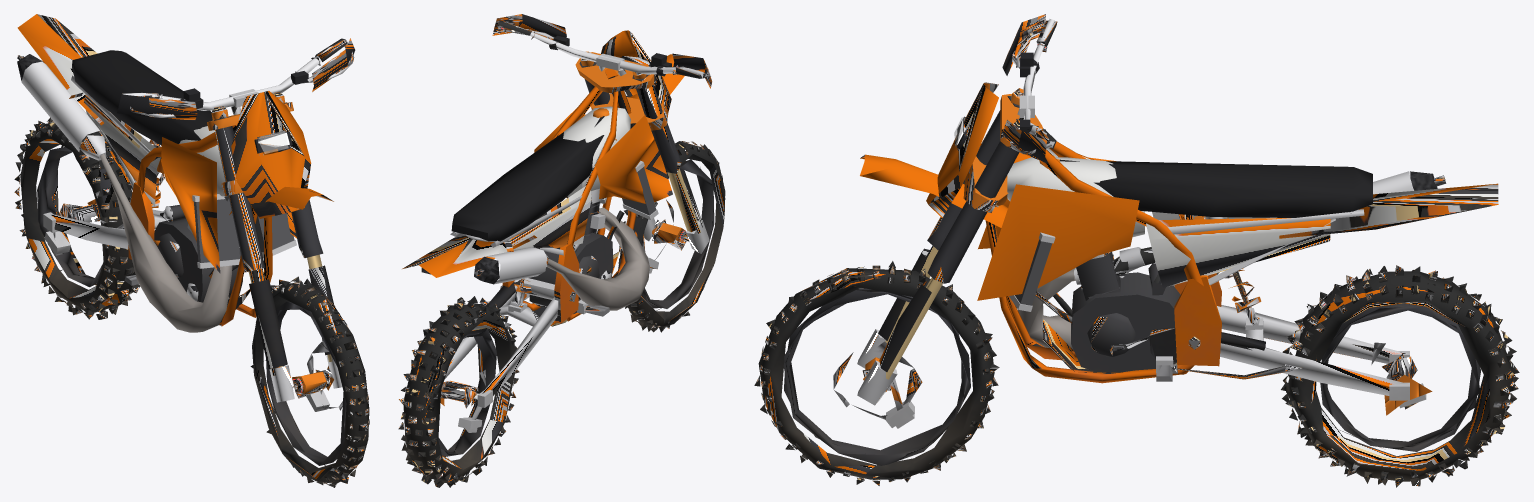
The model's file is enduro-300-4000-Bzzxnf27.glb.
3 views of the same model, side by side, from view 1: azimuth 30°, elevation 25°; view 2: azimuth 150°, elevation 25°; view 3: azimuth 270°, elevation 25° (orthographic). The views are drawn at different scales.
Parts seen in each view (by area): view 1: SM_Enduro_Body_LOD3, SM_Enduro_Steering_LOD3, SM_Enduro_WheelRear_LOD3, SM_Enduro_WheelFront_LOD3, SM_Enduro_ForkLower_LOD3, SM_Enduro_Swingarm_LOD3; view 2: SM_Enduro_Body_LOD3, SM_Enduro_WheelRear_LOD3, SM_Enduro_Steering_LOD3, SM_Enduro_WheelFront_LOD3, SM_Enduro_Swingarm_LOD3, SM_Enduro_ForkLower_LOD3; view 3: SM_Enduro_Body_LOD3, SM_Enduro_WheelRear_LOD3, SM_Enduro_WheelFront_LOD3, SM_Enduro_Steering_LOD3, SM_Enduro_Swingarm_LOD3, SM_Enduro_ForkLower_LOD3.
Boxes of the visible parts, x1=… form: SM_Enduro_Body_LOD3: x1=17, y1=14, x2=296, y2=332; SM_Enduro_Steering_LOD3: x1=117, y1=38, x2=355, y2=272; SM_Enduro_WheelRear_LOD3: x1=14, y1=117, x2=140, y2=319; SM_Enduro_WheelFront_LOD3: x1=250, y1=276, x2=369, y2=487; SM_Enduro_ForkLower_LOD3: x1=248, y1=254, x2=342, y2=411; SM_Enduro_Swingarm_LOD3: x1=43, y1=200, x2=166, y2=255; SM_Enduro_Body_LOD3: x1=402, y1=68, x2=672, y2=326; SM_Enduro_WheelRear_LOD3: x1=398, y1=296, x2=519, y2=487; SM_Enduro_Steering_LOD3: x1=492, y1=14, x2=712, y2=173; SM_Enduro_WheelFront_LOD3: x1=618, y1=141, x2=725, y2=332; SM_Enduro_Swingarm_LOD3: x1=445, y1=278, x2=558, y2=432; SM_Enduro_ForkLower_LOD3: x1=643, y1=168, x2=709, y2=273; SM_Enduro_Body_LOD3: x1=977, y1=118, x2=1498, y2=383; SM_Enduro_WheelRear_LOD3: x1=1281, y1=265, x2=1519, y2=487; SM_Enduro_WheelFront_LOD3: x1=754, y1=261, x2=999, y2=485; SM_Enduro_Steering_LOD3: x1=860, y1=14, x2=1057, y2=283; SM_Enduro_Swingarm_LOD3: x1=1217, y1=271, x2=1426, y2=409; SM_Enduro_ForkLower_LOD3: x1=857, y1=245, x2=942, y2=428.
Bounding box in the file's own units: 0.8758 × 1.27 × 2.17.
Materials: 2 (1 with a texture image).
